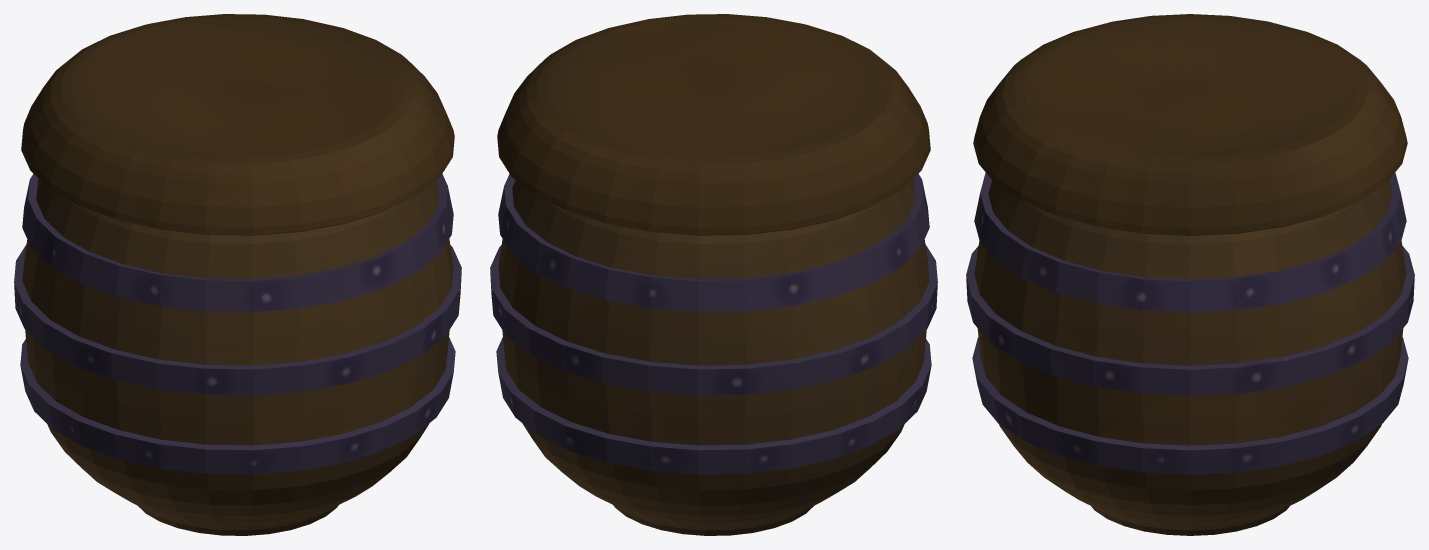
The model's file is NieznajomyWBeczce.fbx.
3 views of the same model, side by side, from view 1: azimuth 30°, elevation 25°; view 2: azimuth 150°, elevation 25°; view 3: azimuth 270°, elevation 25° (orthographic).
Parts seen in each view (by area): view 1: Barrel, Hat; view 2: Barrel, Hat; view 3: Barrel, Hat.
Boxes of the visible parts, box(x1,y1,x2,y2) form: Barrel: box(14, 174, 461, 535); Hat: box(21, 14, 454, 235); Barrel: box(490, 174, 937, 535); Hat: box(497, 14, 930, 235); Barrel: box(966, 172, 1414, 535); Hat: box(973, 14, 1407, 235).
Size of the model in its own units: 248 by 247 by 248.
Materials: 1 (1 with a texture image).
